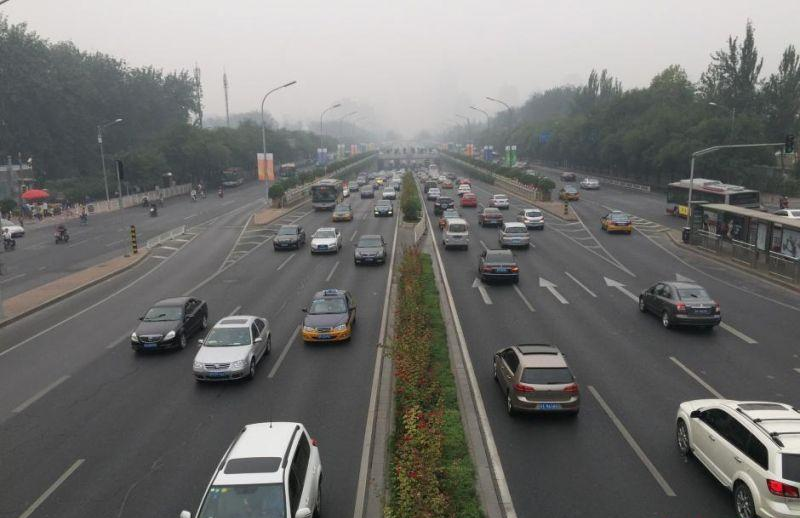bus: (665, 178, 761, 223), (308, 178, 344, 212), (219, 164, 245, 188)
car: (676, 396, 800, 518), (179, 420, 324, 518), (492, 342, 581, 419), (192, 314, 271, 384), (128, 296, 208, 354), (639, 281, 722, 331), (299, 287, 358, 345), (478, 247, 519, 284), (761, 207, 799, 240), (352, 234, 389, 267), (307, 226, 342, 254), (272, 223, 304, 252), (499, 221, 531, 249), (441, 219, 470, 249), (601, 209, 632, 236), (515, 207, 545, 231), (438, 207, 463, 233), (476, 207, 504, 228), (1, 215, 26, 238), (330, 203, 354, 223), (370, 199, 393, 219), (488, 193, 510, 211), (434, 197, 455, 215), (558, 183, 579, 200), (459, 193, 478, 208), (358, 184, 375, 200), (579, 176, 601, 188), (423, 181, 439, 196), (427, 186, 442, 201), (381, 185, 396, 200), (458, 182, 472, 197), (560, 170, 577, 182), (443, 179, 454, 190)
